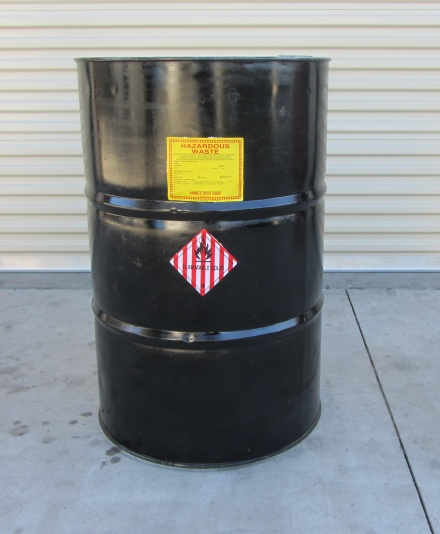FlammableSolid: (170, 230, 238, 297)
